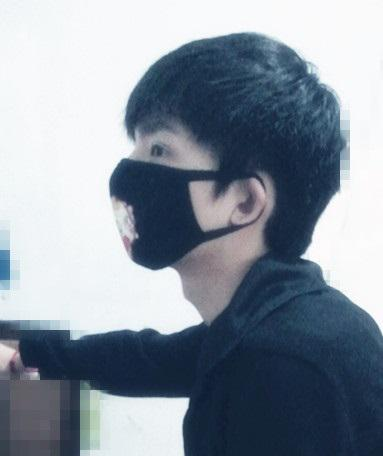OK: (104, 126, 240, 262)
